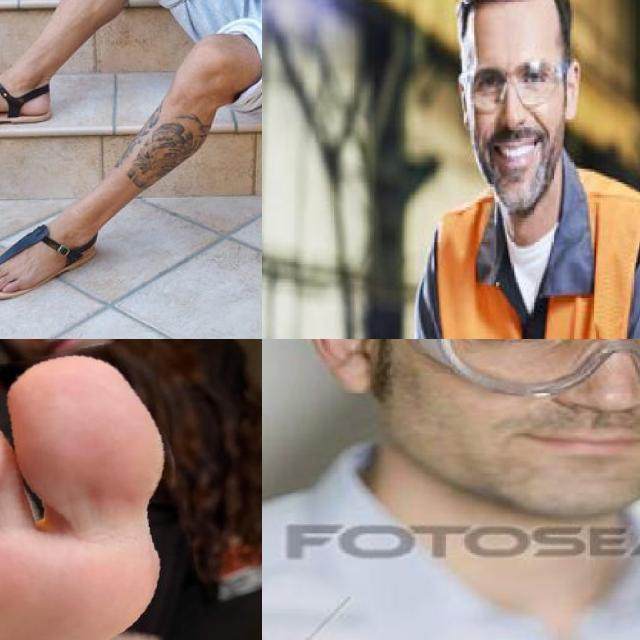Barefoots: (0, 340, 174, 640)
No_Ear-Protection: (307, 339, 376, 400)
Sandals: (0, 71, 51, 128)
face_nomask: (452, 339, 640, 472), (470, 57, 562, 173)
glasses: (342, 339, 640, 406), (451, 50, 573, 110)
head_nohelmet: (457, 0, 574, 34)
person: (386, 0, 640, 339)
vest: (425, 164, 640, 339)
